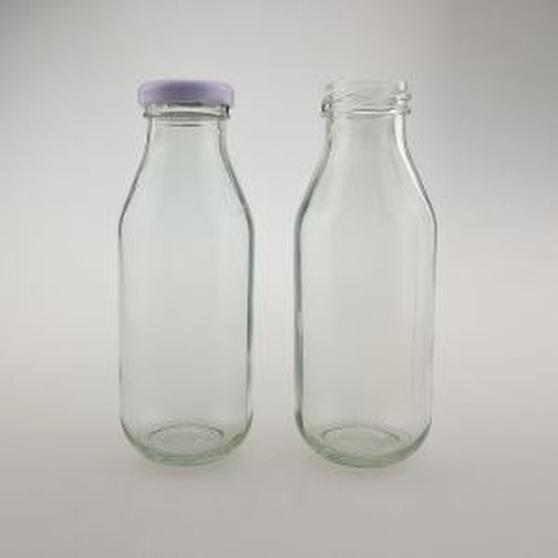milk: (99, 75, 270, 469)
